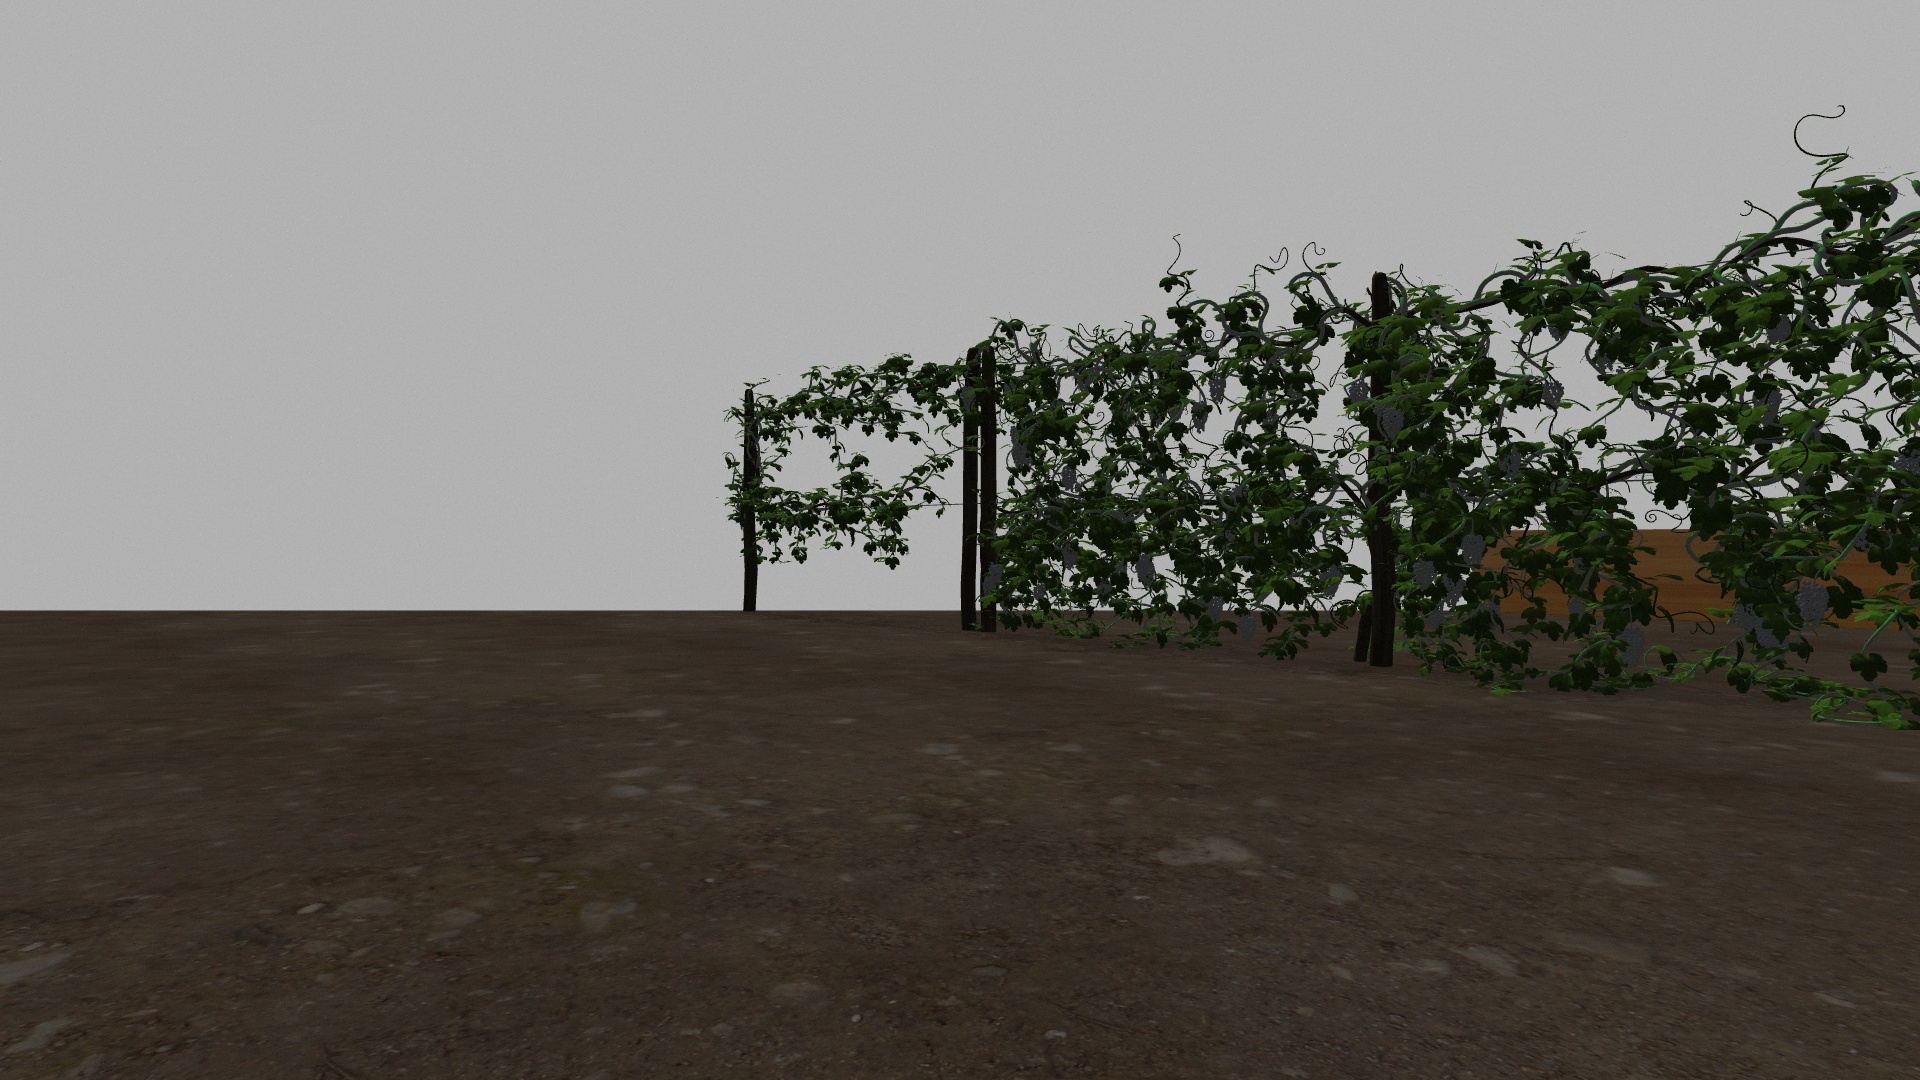grape: (1795, 580, 1830, 626), (1751, 382, 1783, 427), (1618, 626, 1646, 669), (1497, 444, 1522, 484), (1440, 574, 1466, 611), (1731, 600, 1758, 636), (1460, 531, 1486, 567), (1766, 313, 1793, 345), (1411, 556, 1435, 592), (1320, 562, 1342, 599), (1755, 616, 1780, 649), (1381, 407, 1404, 440), (1540, 378, 1564, 410), (1135, 555, 1155, 592), (1191, 401, 1211, 435), (1237, 615, 1258, 644), (1208, 372, 1226, 404), (1349, 380, 1369, 407), (1011, 443, 1033, 467), (1567, 597, 1586, 621), (1062, 542, 1077, 570), (1062, 463, 1077, 491), (961, 385, 977, 411), (1207, 597, 1224, 618), (988, 564, 1004, 584), (1428, 611, 1445, 628), (982, 578, 996, 596), (1033, 584, 1044, 600)
